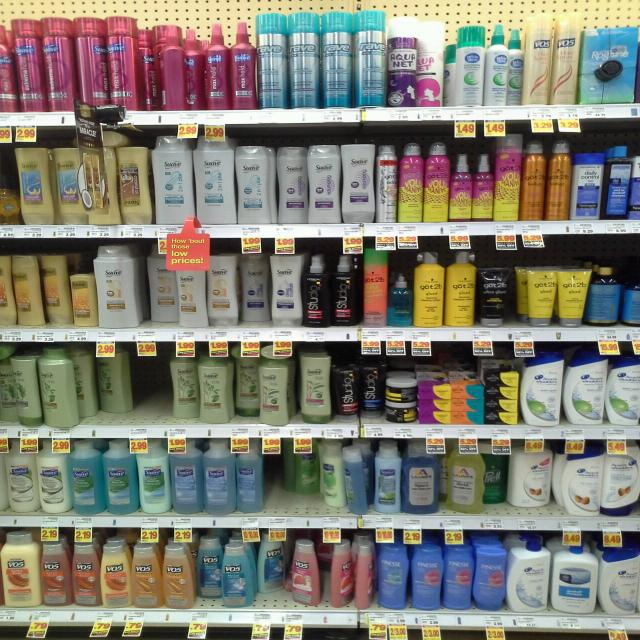unorganised: (283, 441, 370, 516), (72, 16, 107, 116), (328, 538, 375, 611), (39, 347, 78, 431), (152, 25, 188, 112), (335, 364, 383, 424), (447, 443, 486, 515), (415, 16, 445, 108), (512, 444, 553, 511), (37, 251, 72, 325), (164, 349, 199, 418), (145, 249, 176, 326), (287, 537, 321, 607), (95, 349, 131, 415), (376, 539, 409, 611), (7, 357, 40, 428), (240, 253, 270, 326), (13, 253, 41, 328), (192, 539, 222, 604), (260, 364, 290, 428), (256, 539, 287, 598), (234, 354, 259, 419), (508, 29, 525, 106)
